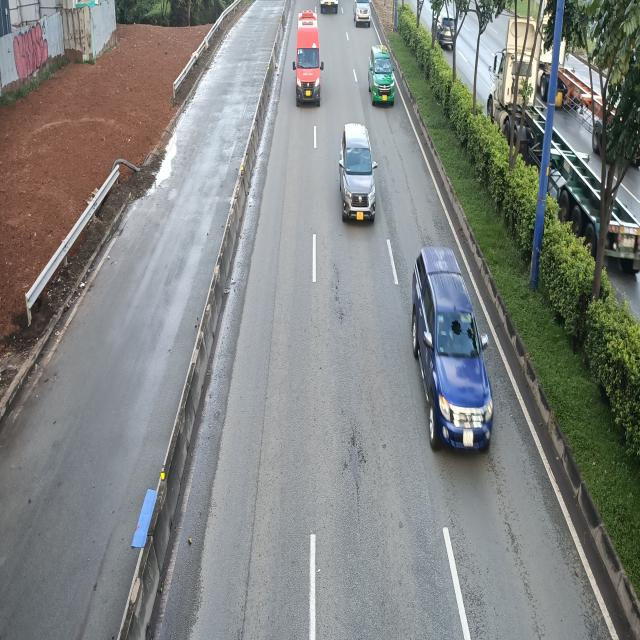car: (410, 247, 491, 453), (340, 122, 377, 222), (369, 46, 396, 106)
van: (292, 12, 323, 107)
